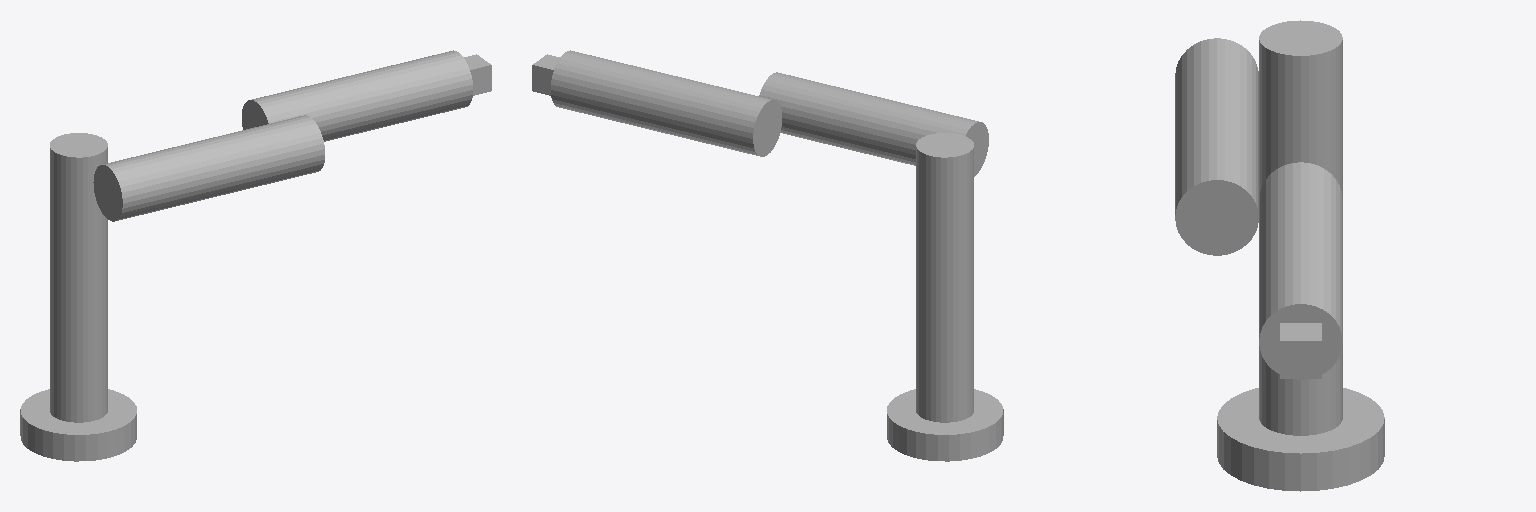
robot.urdf — cougarbot:
<?xml version="1.0"?>
<robot name="cougarbot">

  <link name="world"/>
  <link name="base_link">
    <visual>
      <geometry>
        <cylinder length="0.05" radius="0.1"/>
      </geometry>
      <material name="silver">
        <color rgba="0.75 0.75 0.75 1"/>
      </material>
      <origin rpy="0 0 0" xyz="0 0 0.025"/>
    </visual>
    <collision>
      <geometry>
        <cylinder length="0.05" radius="0.1"/>
      </geometry>
      <origin rpy="0 0 0" xyz="0 0 0.025"/>
    </collision>
    <inertial>
      <mass value="1.0"/>
      <origin rpy="0 0 0" xyz="0 0 0.025"/>
      <inertia ixx="0.0027" iyy="0.0027" izz="0.005" ixy="0" ixz="0" iyz="0"/>
    </inertial>
  </link>

  <joint name="fixed" type="fixed">
    <parent link="world"/>
    <child link="base_link"/>
  </joint>

  <link name="torso">
    <visual>
      <geometry>
        <cylinder length="0.5" radius="0.05"/>
      </geometry>
      <material name="silver">
        <color rgba="0.75 0.75 0.75 1"/>
      </material>
      <origin rpy="0 0 0" xyz="0 0 0.25"/>
    </visual>
    <collision>
      <geometry>
        <cylinder length="0.05" radius="0.05"/>
      </geometry>
      <origin rpy="0 0 0" xyz="0 0 0.025"/>
    </collision>
    <inertial>
      <mass value="1.0"/>
      <origin rpy="0 0 0" xyz="0 0 0.25"/>
      <inertia ixx="0.02146" iyy="0.02146" izz="0.00125" ixy="0" ixz="0" iyz="0"/>
    </inertial>
  </link>

  <joint name="hip" type="continuous">
    <axis xyz="0 0 1"/>
    <parent link="base_link"/>
    <child link="torso"/>
    <origin rpy="0 0 0" xyz="0.0 0.0 0.05"/>
  </joint>

  <link name="upper_arm">
    <visual>
      <geometry>
        <cylinder length="0.4" radius="0.05"/>
      </geometry>
      <material name="silver"/>
      <origin rpy="0 0 0" xyz="0 0 0.2"/>
    </visual>
    <collision>
      <geometry>
        <cylinder length="0.05" radius="0.05"/>
      </geometry>
      <origin rpy="0 0 0" xyz="0 0 0.2"/>
    </collision>
    <inertial>
      <mass value="1.0"/>
      <origin rpy="0 0 0" xyz="0 0 0.2"/>
      <inertia ixx="0.01396" iyy="0.01396" izz="0.00125" ixy="0" ixz="0" iyz="0"/>
    </inertial>
  </link>

  <joint name="shoulder" type="continuous">
    <axis xyz="0 1 0"/>
    <parent link="torso"/>
    <child link="upper_arm"/>
    <origin rpy="0 1.5708 0" xyz="0.0 -0.1 0.45"/>
  </joint>

  <link name="lower_arm">
    <visual>
      <geometry>
        <cylinder length="0.4" radius="0.05"/>
      </geometry>
      <material name="silver"/>
      <origin rpy="0 0 0" xyz="0 0 0.2"/>
    </visual>
    <collision>
      <geometry>
        <cylinder length="0.05" radius="0.05"/>
      </geometry>
      <origin rpy="0 0 0" xyz="0 0 0.02"/>
    </collision>
    <inertial>
      <mass value="1.0"/>
      <origin rpy="0 0 0" xyz="0 0 0.2"/>
      <inertia ixx="0.01396" iyy="0.01396" izz="0.00125" ixy="0" ixz="0" iyz="0"/>
    </inertial>
  </link>

  <joint name="elbow" type="continuous">
    <axis xyz="0 1 0"/>
    <parent link="upper_arm"/>
    <child link="lower_arm"/>
    <origin rpy="0 0 0" xyz="0.0 0.1 0.35"/>
  </joint>

  <link name="hand">
    <visual>
      <geometry>
        <box size="0.05 0.05 0.05"/>
      </geometry>
      <material name="silver"/>
    </visual>
    <collision>
      <geometry>
        <box size="0.05 0.05 0.05"/>
      </geometry>
    </collision>
    <inertial>
      <mass value="1.0"/>
      <inertia ixx="0.00042" iyy="0.00042" izz="0.00042" ixy="0" ixz="0" iyz="0"/>
    </inertial>
  </link>

  <joint name="wrist" type="continuous">
    <axis xyz="0 1 0"/>
    <parent link="lower_arm"/>
    <child link="hand"/>
    <origin rpy="0 0 0" xyz="0.0 0.0 0.425"/>
  </joint>

</robot>

--- Facts derived from the render (not from the file) ---
Views: 3 orthographic renders of the robot side by side, from view 1: azimuth 30°, elevation 25°; view 2: azimuth 150°, elevation 25°; view 3: azimuth 270°, elevation 25°.
Robot: cougarbot — 6 links, 5 joints (4 continuous, 1 fixed); root link world; default pose: every joint at zero.
Visible links, largest first — view 1: torso, upper_arm, lower_arm, base_link, hand; view 2: torso, lower_arm, upper_arm, base_link, hand; view 3: torso, upper_arm, lower_arm, base_link, hand.
Link boxes in pixels (x1,y1,x2,y2): torso: (50,133,107,422); upper_arm: (93,115,324,221); lower_arm: (242,50,472,141); base_link: (20,389,136,461); hand: (464,54,491,95); torso: (916,133,973,422); lower_arm: (551,50,781,156); upper_arm: (759,72,988,176); base_link: (887,389,1003,461); hand: (532,54,559,95); torso: (1259,20,1342,435); upper_arm: (1175,38,1258,255); lower_arm: (1259,162,1342,379); base_link: (1217,388,1384,491); hand: (1280,323,1321,378).
Bounding box of the posed robot: 0.9 × 0.25 × 0.55 m (x, y, z).
Geometry: primitives only (box / cylinder / sphere), no mesh files.